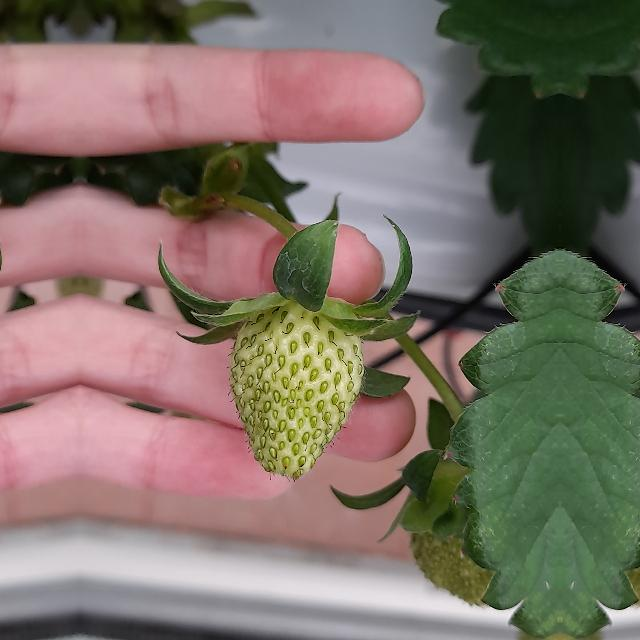Health_25: (229, 301, 363, 479)
